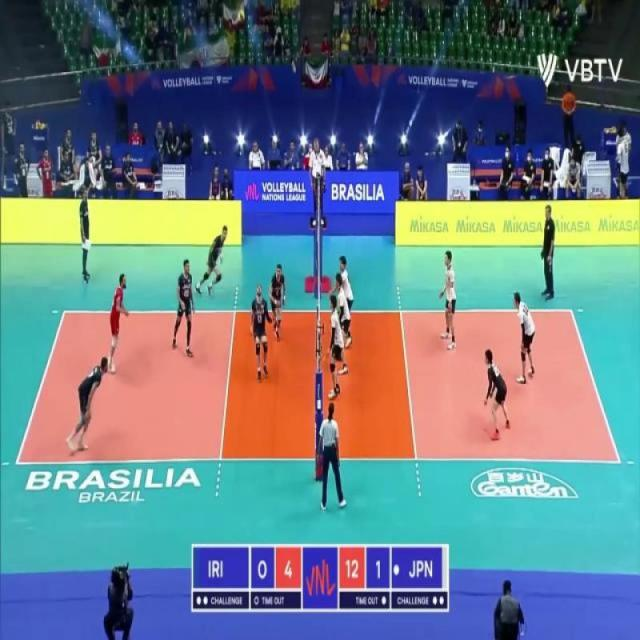volleyball: (238, 10, 246, 25), (604, 124, 616, 134), (34, 119, 41, 128)
